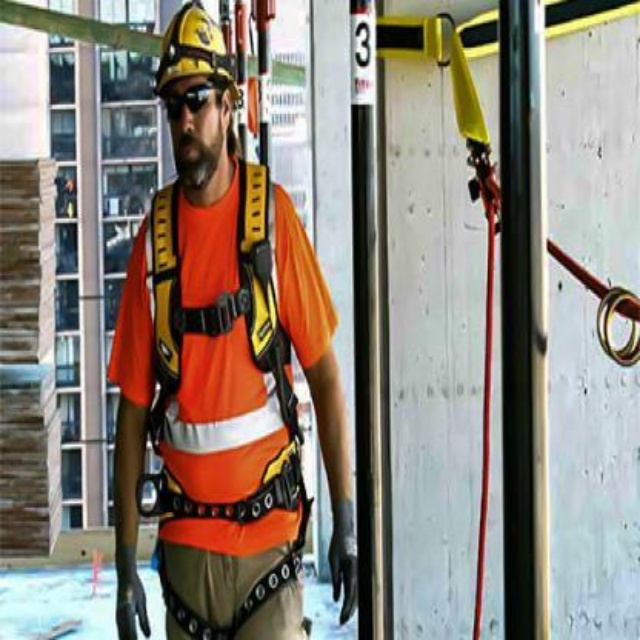Arnes_seguridad: (137, 166, 312, 640)
